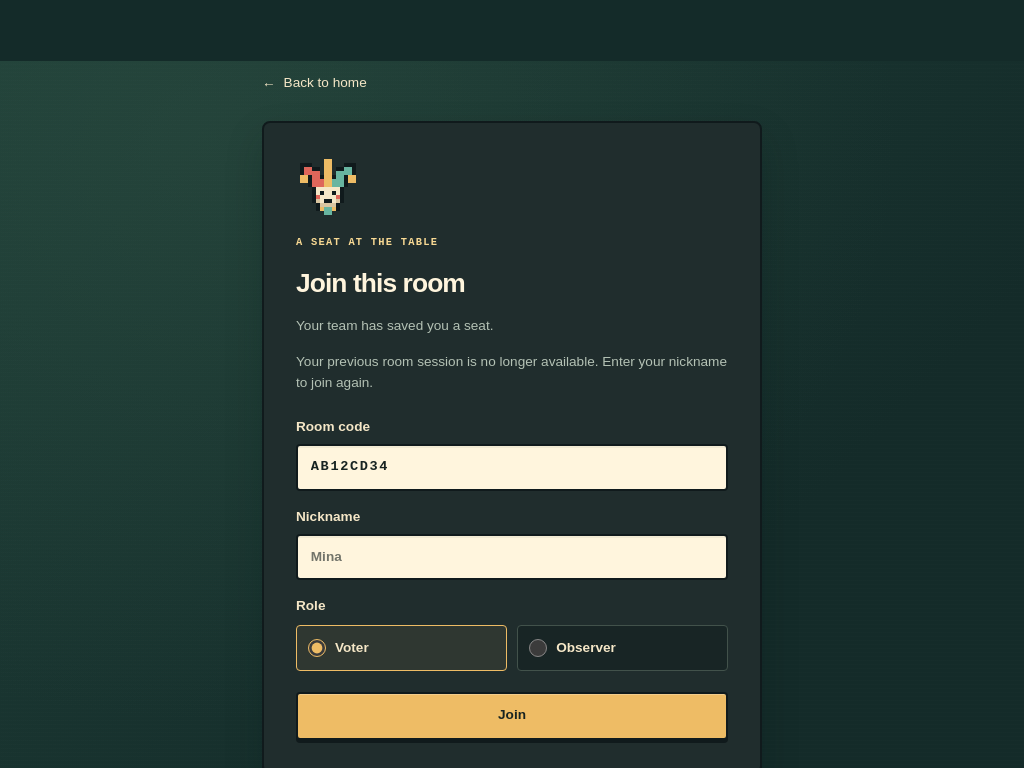
Test: room UI › offers explicit rejoining when recent history does not belong to the current session
This screenshot has width=1024, height=768.
Expected: the heading "Join this room" is shown, [296,267,465,300]
Type "New participant" into the field labelled "Nickname" at (512, 557), box [296,534,728,580]
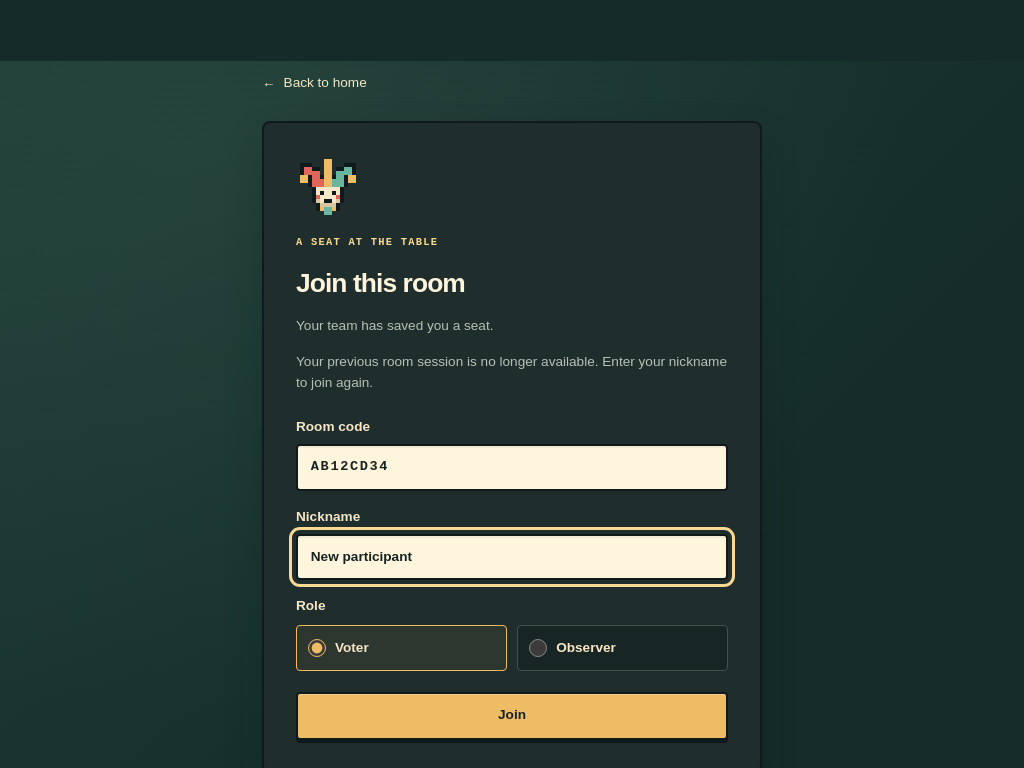
Click the radio button labelled "Observer" at (538, 648), box [529,639,547,657]
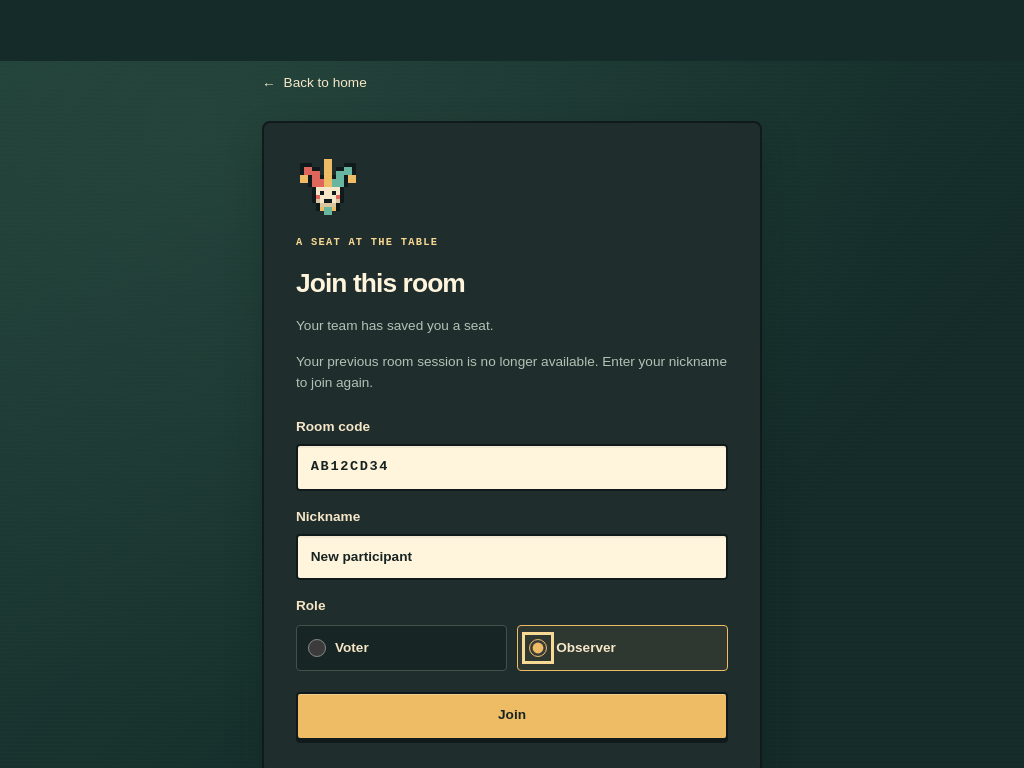
Click the button "Join" at (512, 716), box [296,692,728,740]
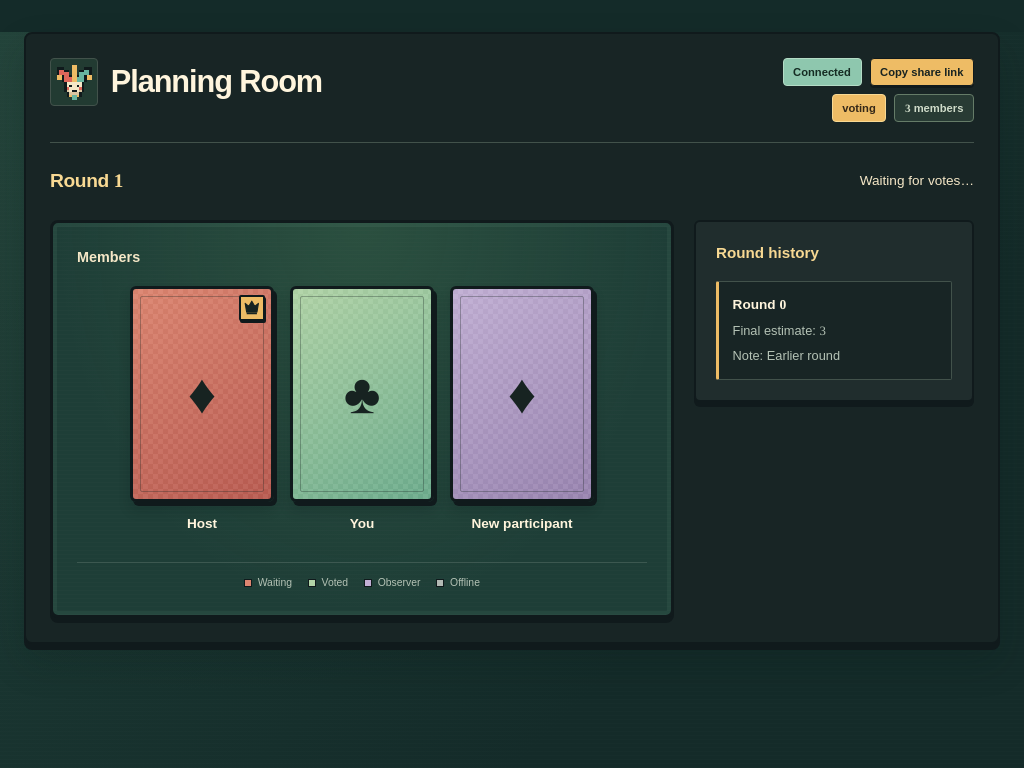
Expected: the heading "Planning Room" is shown, [111,63,322,101]
Expected: the text "previous room session" is gone
